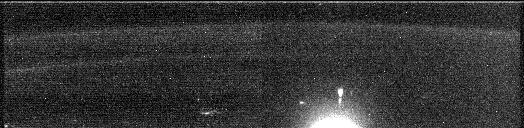positive: (333, 84, 345, 113)
